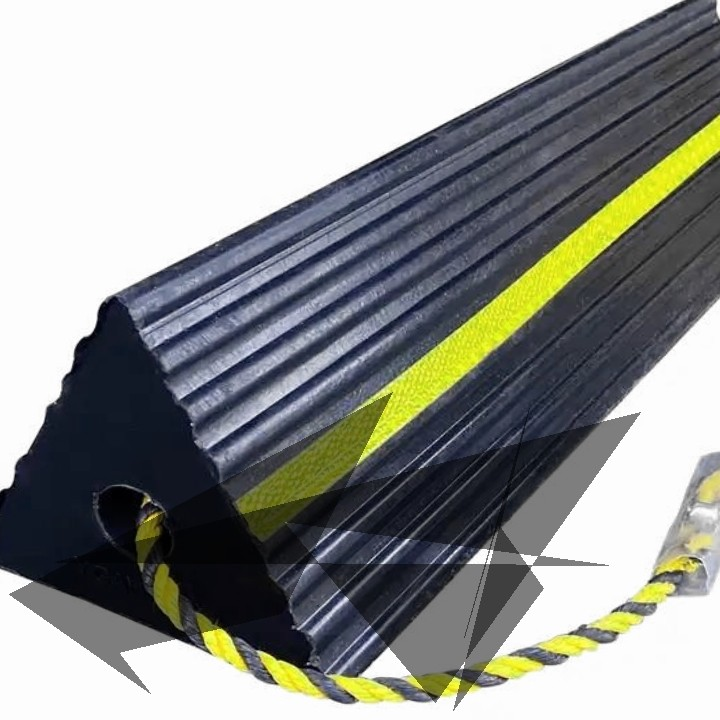chock: (0, 0, 720, 708)
